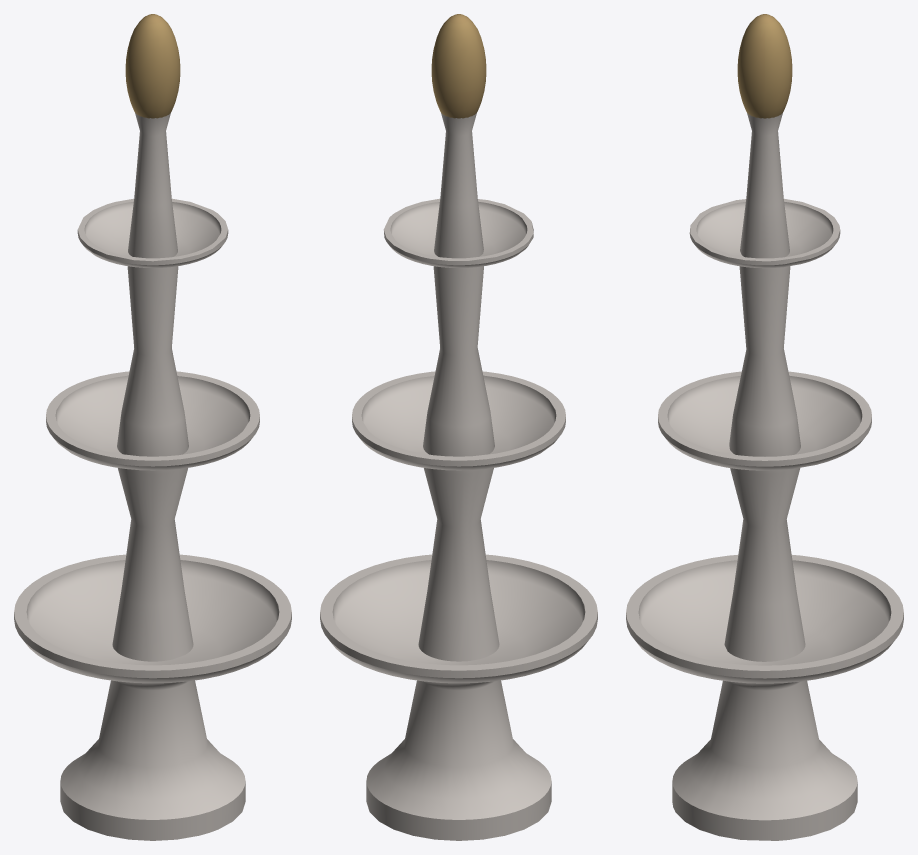
File: mobile.glb
The picture shows the model from 3 angles, left to right: view 1: azimuth 30°, elevation 25°; view 2: azimuth 150°, elevation 25°; view 3: azimuth 270°, elevation 25°; orthographic projection.
Bounding box in the file's own units: 0.96 × 3 × 0.96.
Materials: 1 (1 with a texture image).
